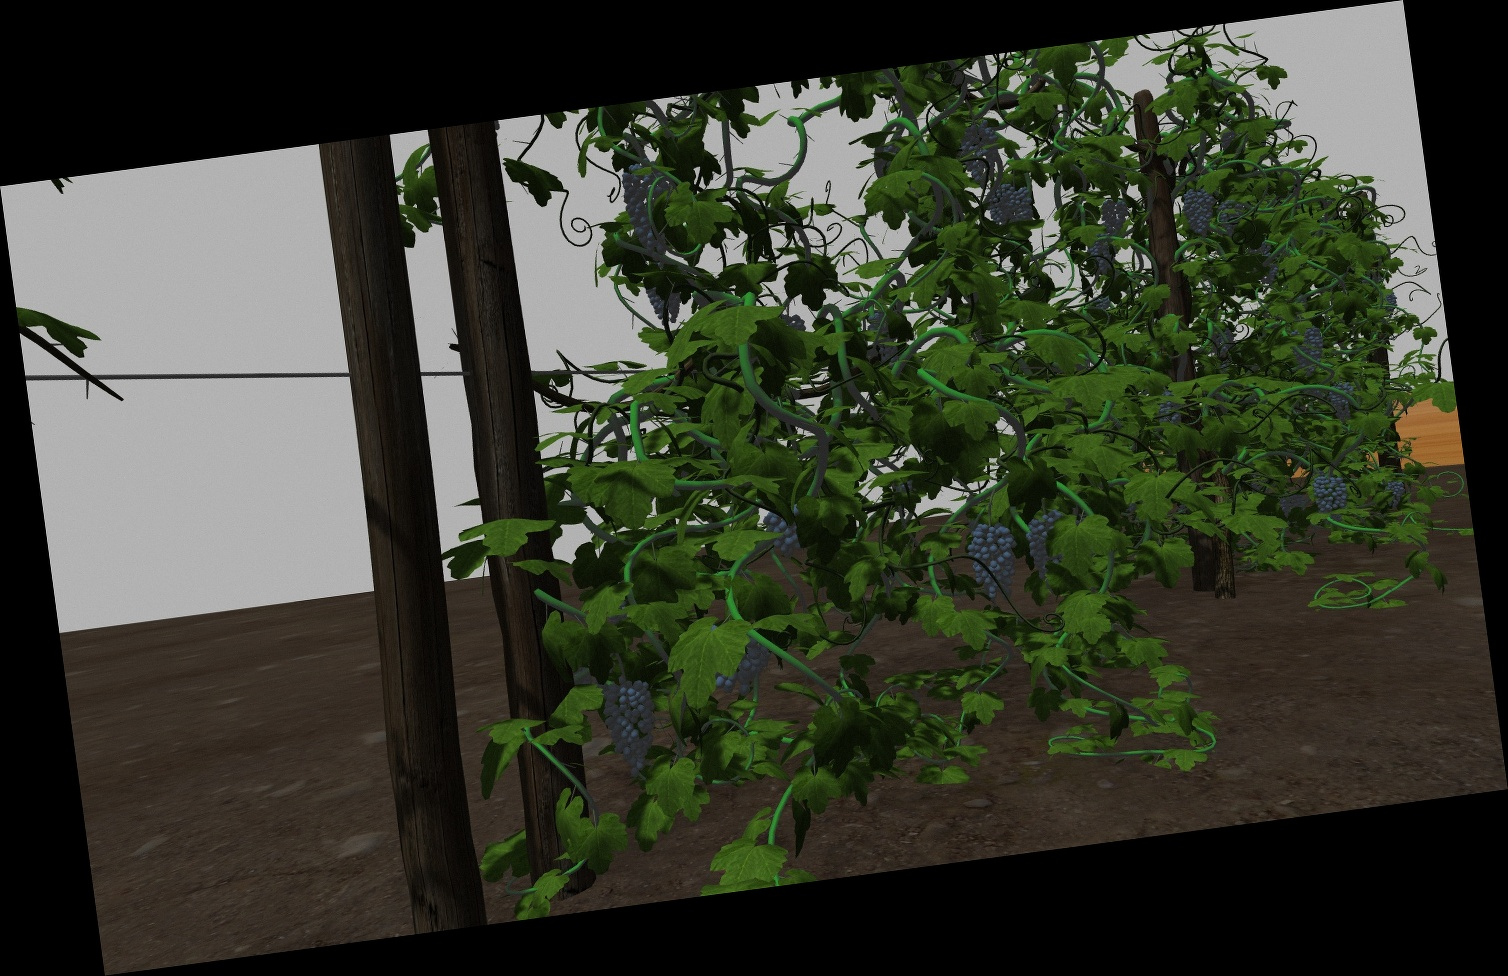grape: (600, 680, 656, 779), (627, 164, 670, 249), (971, 524, 1019, 599), (712, 640, 772, 698), (1027, 512, 1065, 579), (961, 123, 999, 182), (764, 506, 803, 557), (1182, 188, 1217, 236), (1291, 328, 1326, 373), (1311, 472, 1348, 513), (1099, 198, 1130, 236), (988, 182, 1012, 228), (1331, 380, 1356, 422), (1008, 184, 1033, 224), (1090, 239, 1113, 275), (1282, 487, 1308, 518), (1385, 480, 1407, 506)
